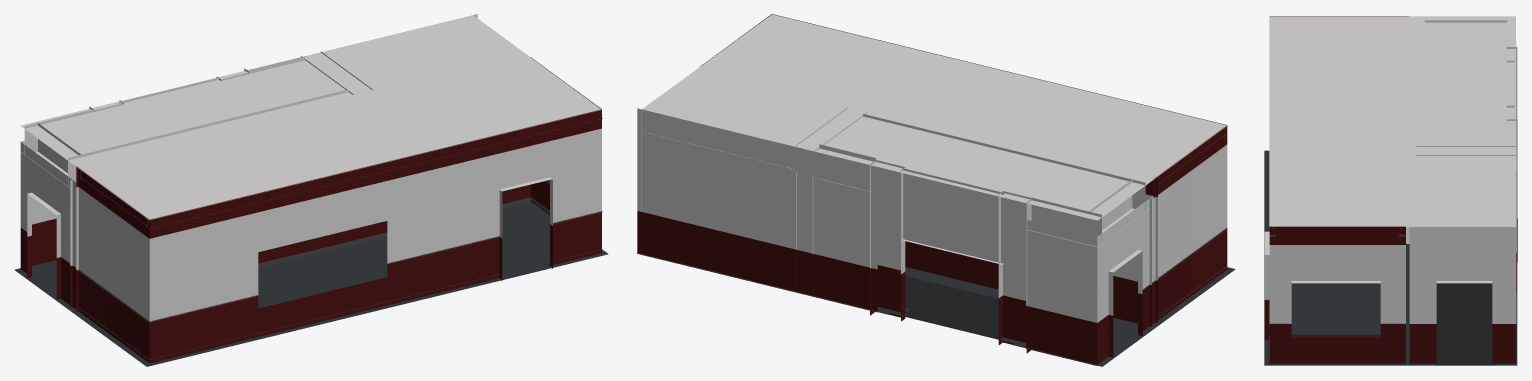
The model's file is SM_H_Building_Tide_InterrogationRoom_06_ATLAS.fbx.
The picture shows the model from 3 angles, left to right: view 1: azimuth 30°, elevation 25°; view 2: azimuth 150°, elevation 25°; view 3: azimuth 270°, elevation 25°; orthographic projection. The views are drawn at different scales.
Parts seen in each view (by area): view 1: SM_H_Building_Tide_InterrogationRoom_06_ATLAS; view 2: SM_H_Building_Tide_InterrogationRoom_06_ATLAS; view 3: SM_H_Building_Tide_InterrogationRoom_06_ATLAS.
Boxes of the visible parts, <box> form: SM_H_Building_Tide_InterrogationRoom_06_ATLAS: <box>14,14,608,366</box>; SM_H_Building_Tide_InterrogationRoom_06_ATLAS: <box>637,14,1235,366</box>; SM_H_Building_Tide_InterrogationRoom_06_ATLAS: <box>1264,16,1517,365</box>.
Bounding box in the file's own units: 1464 × 728 × 462.
